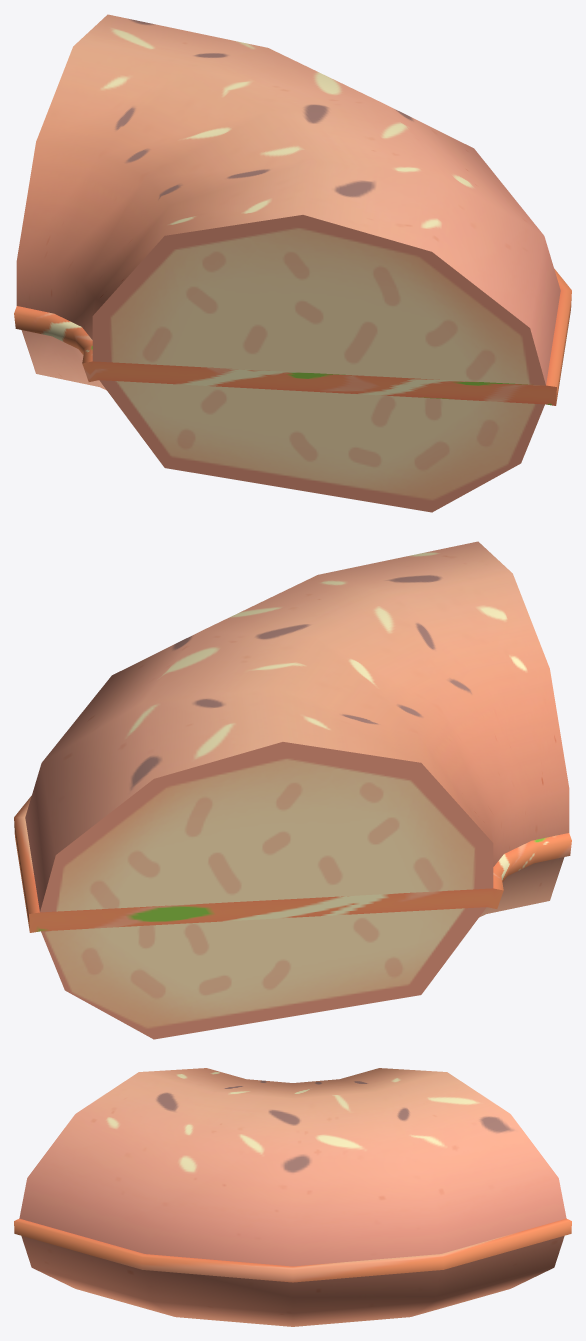
File: bagel_slice.fbx
3 views of the same model, one above another, from view 1: azimuth 30°, elevation 25°; view 2: azimuth 150°, elevation 25°; view 3: azimuth 270°, elevation 25° (orthographic). The views are drawn at different scales.
Parts seen in each view (by area): view 1: bagel_slice; view 2: bagel_slice; view 3: bagel_slice.
Part boxes in pixels (x1,y1,x2,y2): bagel_slice: [14, 14, 571, 512]; bagel_slice: [14, 541, 571, 1039]; bagel_slice: [14, 1068, 571, 1326].
Bounding box in the file's own units: 26.01 × 15.64 × 41.62.
